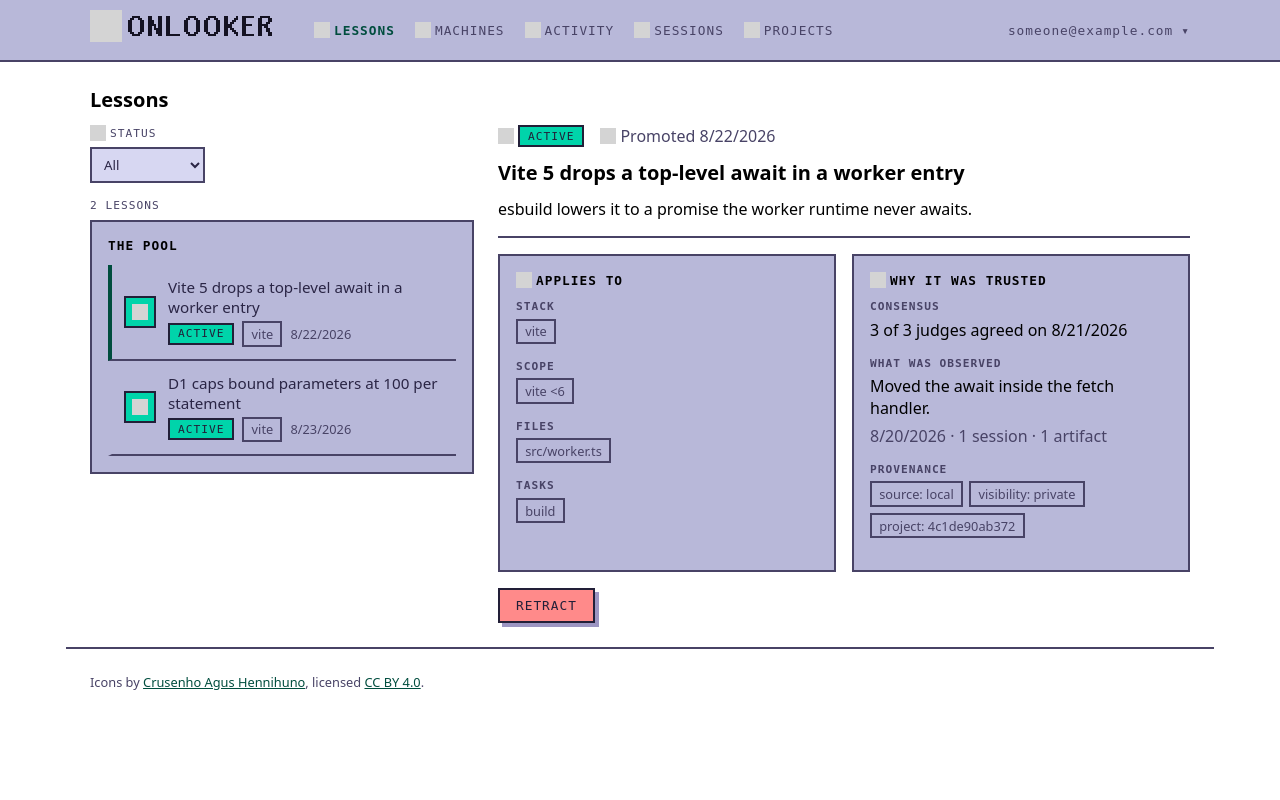
Test case: the detail pane › does not refetch the pool when clicking from one lesson to another
The image size is (1280, 800).
Check: the heading "Vite 5 drops a top-level await in a worker entry" is shown, box [498, 159, 965, 186]
Click the link "D1 caps bound parameters at 100 per statement" at [140, 407], box [108, 361, 456, 456]
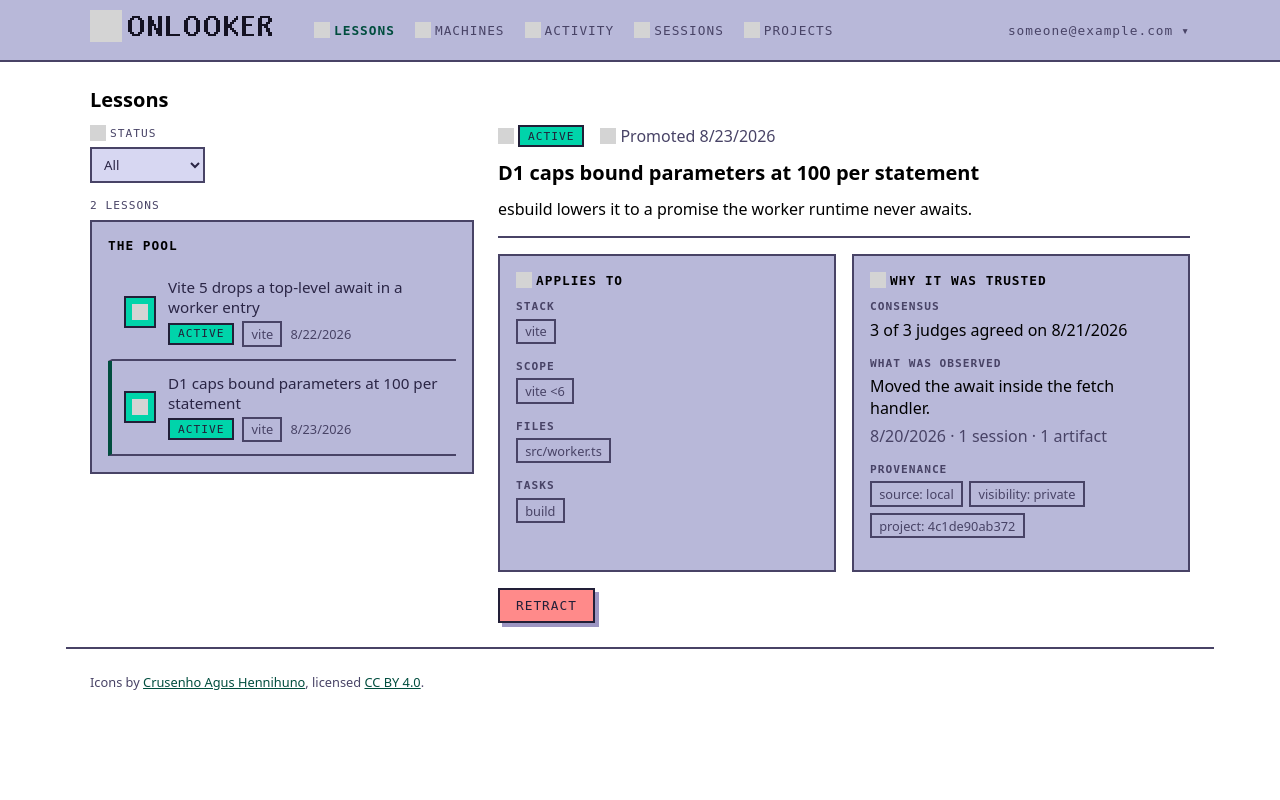
Check: the heading "D1 caps bound parameters at 100 per statement" is shown, box [498, 159, 979, 186]
